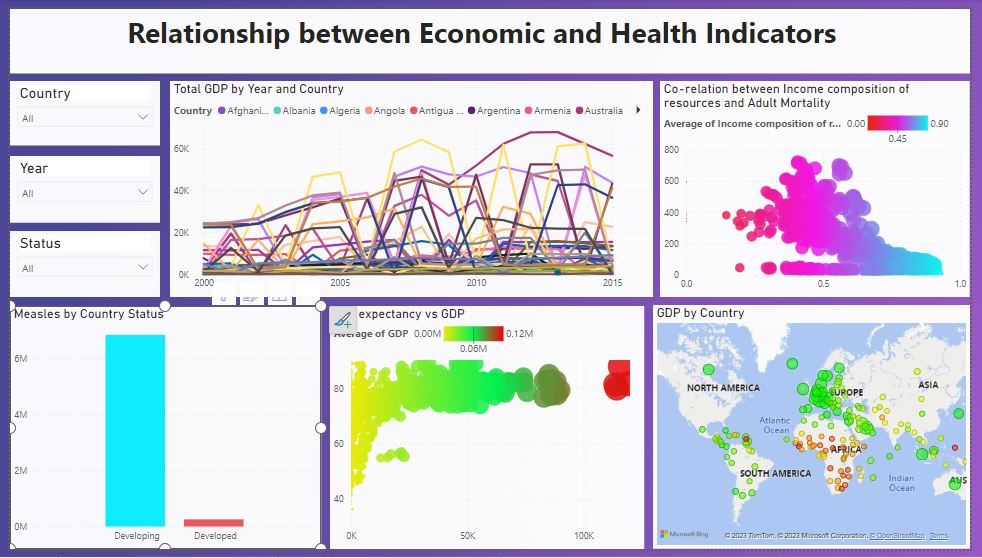

The page's visual inventory and layout, read from the dashboard file:
{"tool":"powerbi","page":{"name":"Relationship between Economic and Health Indicators","canvas":[1280,720],"ordinal":4},"visuals":[{"type":"lineClusteredColumnComboChart","title":"Measles  by Country Status","fields":{"Category":["Life Expectancy Data.Status"],"Y":["Sum(Life Expectancy Data.Measles )"]},"box":[0,396,414.7,324],"z":0},{"type":"scatterChart","title":"Life expectancy vs GDP ","fields":{"Y":["Life Expectancy Data.Life expectancy "],"X":["Life Expectancy Data.GDP"],"Size":["Avg(Life Expectancy Data.GDP)1"]},"box":[426.2,396,419,324],"z":1000},{"type":"lineChart","title":"Total GDP by Year and Country","fields":{"Category":["Life Expectancy Data.Year"],"Y":["Sum(Life Expectancy Data.GDP)"],"Series":["Life Expectancy Data.Country"]},"box":[213.1,96.5,643.7,288],"z":2000},{"type":"scatterChart","title":"Co-relation between Income composition of resources and Adult Mortality","fields":{"Y":["Life Expectancy Data.Adult Mortality"],"X":["Avg(Life Expectancy Data.Income composition of resources)"],"Size":["Avg(Life Expectancy Data.Income composition of resources)"]},"box":[866.9,96.5,413.3,288],"z":3000},{"type":"map","title":"GDP by Country","fields":{"Category":["Life Expectancy Data.Country"],"Size":["Avg(Life Expectancy Data.GDP)"]},"box":[856.8,394.6,423.4,325.4],"z":5000},{"type":"slicer","fields":{"Values":["Life Expectancy Data.Country"]},"box":[0,96.5,200.2,86.4],"z":6000},{"type":"slicer","fields":{"Values":["Life Expectancy Data.Year"]},"box":[0,195.8,200.2,89.3],"z":7000},{"type":"slicer","fields":{"Values":["Life Expectancy Data.Status"]},"box":[0,296.6,200.2,87.8],"z":8000},{"type":"textbox","box":[0,0,1280.2,86.4],"z":9000}]}

Visuals, with their boxes in screenshot pixels (x1, y1, x2, y2), scaled from the page's 1280x720 canvas onto the 982x558 screenshot:
"Measles  by Country Status" lineClusteredColumnComboChart: <box>0,307,318,557</box>
"Life expectancy vs GDP " scatterChart: <box>327,307,648,557</box>
"Total GDP by Year and Country" lineChart: <box>163,75,657,298</box>
"Co-relation between Income composition of resources and Adult Mortality" scatterChart: <box>665,75,981,298</box>
"GDP by Country" map: <box>657,306,981,557</box>
slicer - Life Expectancy Data.Country: <box>0,75,154,142</box>
slicer - Life Expectancy Data.Year: <box>0,152,154,221</box>
slicer - Life Expectancy Data.Status: <box>0,230,154,298</box>
textbox: <box>0,0,981,67</box>
